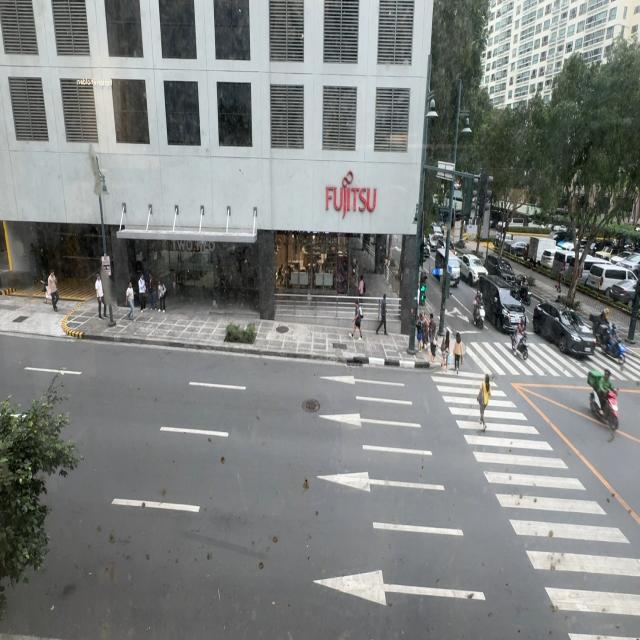crossing: (478, 374, 492, 430), (453, 333, 464, 375), (441, 328, 450, 370)
pedestrain: (348, 300, 362, 342), (95, 272, 106, 320), (47, 269, 59, 312), (138, 273, 148, 313), (126, 282, 136, 321), (158, 280, 166, 313), (358, 275, 366, 297)
waiting: (421, 314, 430, 352), (428, 313, 437, 350), (416, 312, 424, 351)
